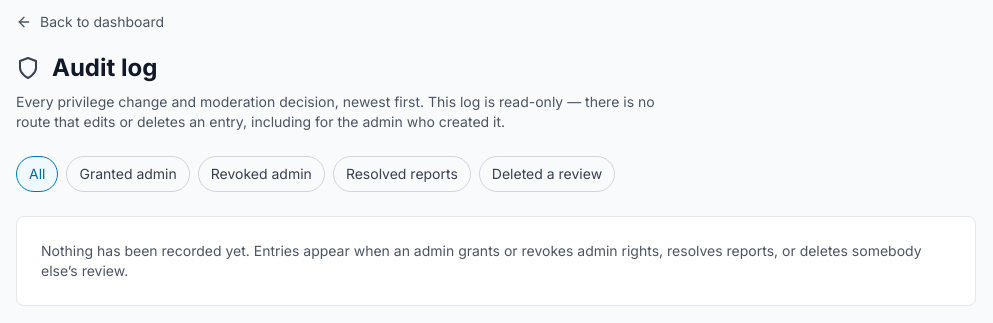
Test: empty and failed are different states › an empty filtered view says the filter is empty, not the log
Expected: the text "Nothing has been recorded yet" is shown, [41,242,922,279]
Click the button "Revoked admin" at [261, 174], box [198,156,325,192]
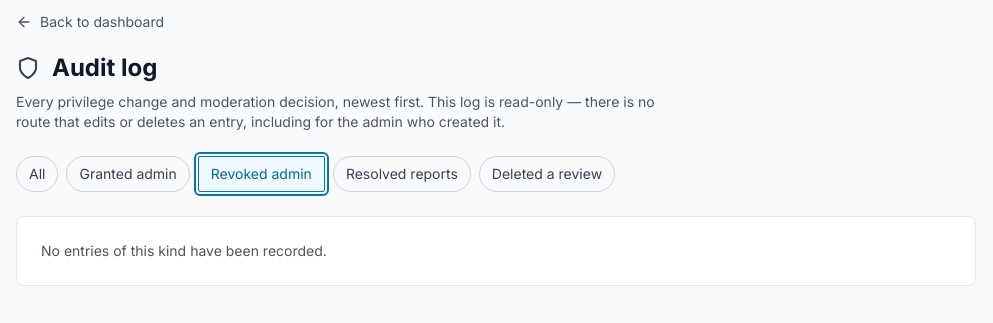
Now the text "No entries of this kind have been recorded." is shown, box [41,242,327,259]
